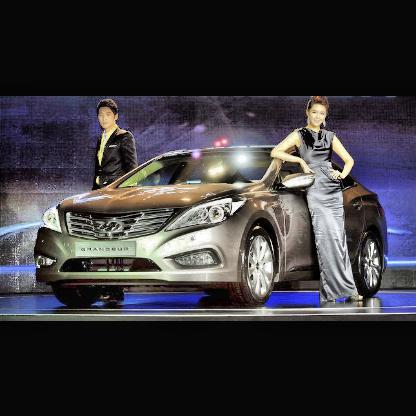Hyundai Azera Sedan 2012: (34, 143, 391, 308)
